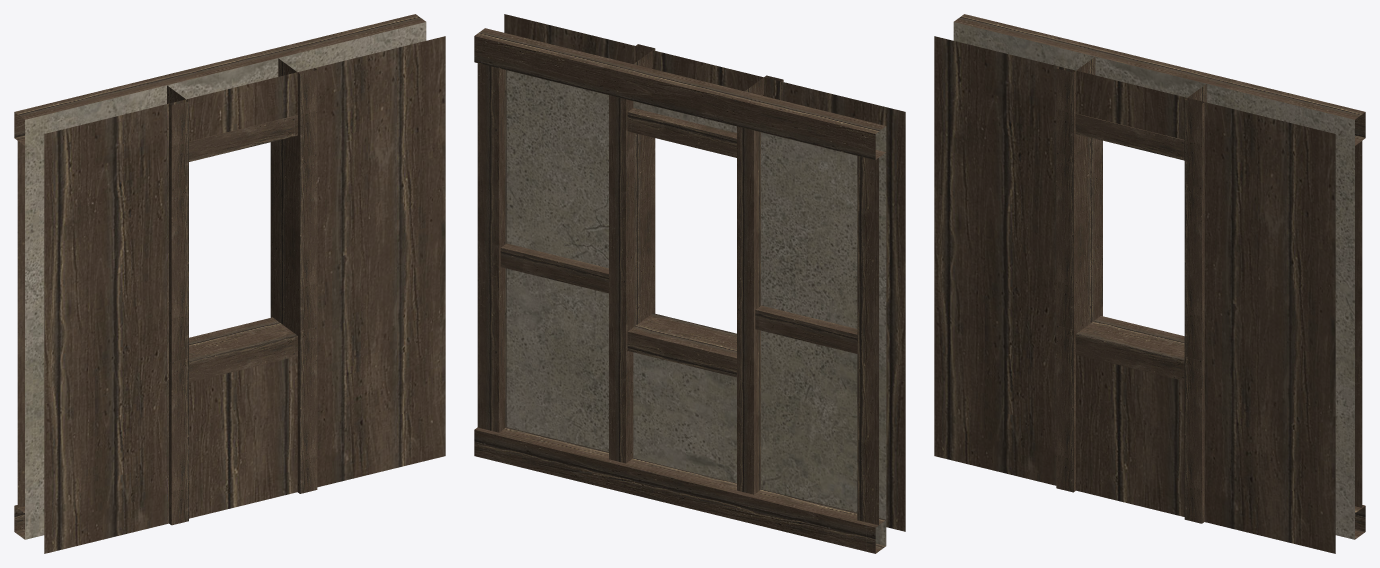
Rendered from ARC1010246.fbx.
3 renders of one model, left to right at view 1: azimuth 30°, elevation 25°; view 2: azimuth 150°, elevation 25°; view 3: azimuth 330°, elevation 25°, orthographic.
Parts seen in each view (by area): view 1: smARC1010246; view 2: smARC1010246; view 3: smARC1010246.
Part boxes in pixels (x1=…): smARC1010246: x1=14, y1=14, x2=445, y2=553; smARC1010246: x1=474, y1=14, x2=905, y2=553; smARC1010246: x1=934, y1=14, x2=1365, y2=553.
Bounding box in the file's own units: 268 × 268 × 37.89.
Materials: 1 (1 with a texture image).
